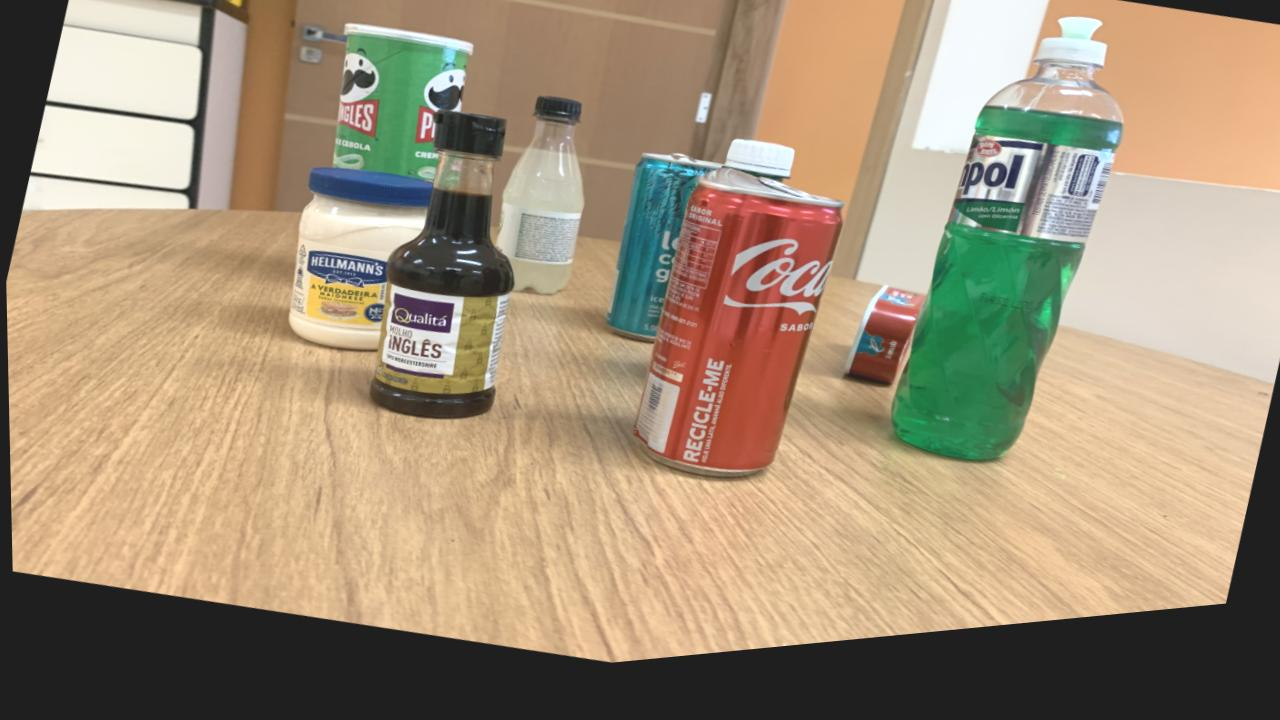Coke-Drinks: (631, 199, 841, 491)
Detergent-Cleanup_Items: (889, 41, 1122, 480)
English_Sauce-Pantry_Items: (368, 120, 513, 428)
Mayonnaise-Pantry_Items: (286, 174, 432, 358)
Pringles-Snacks: (331, 30, 473, 188)
Soda-Drinks: (495, 107, 583, 306)
Tea-Drinks: (604, 166, 719, 355)
Tuna_Can-Pantry_Items: (841, 304, 924, 401)
